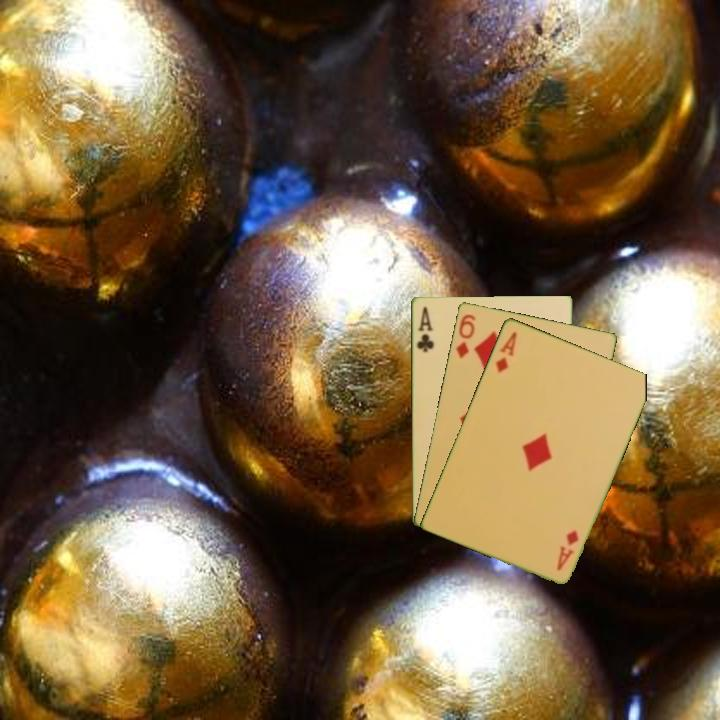6d: (452, 310, 478, 361)
Ac: (413, 303, 436, 355)
Ad: (492, 328, 520, 375), (553, 526, 581, 573)
